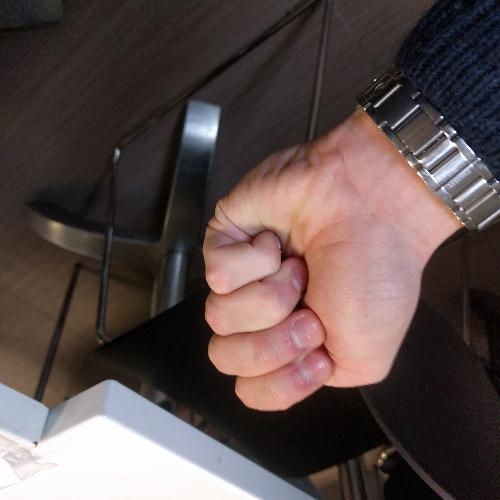rock: (191, 121, 428, 420)
